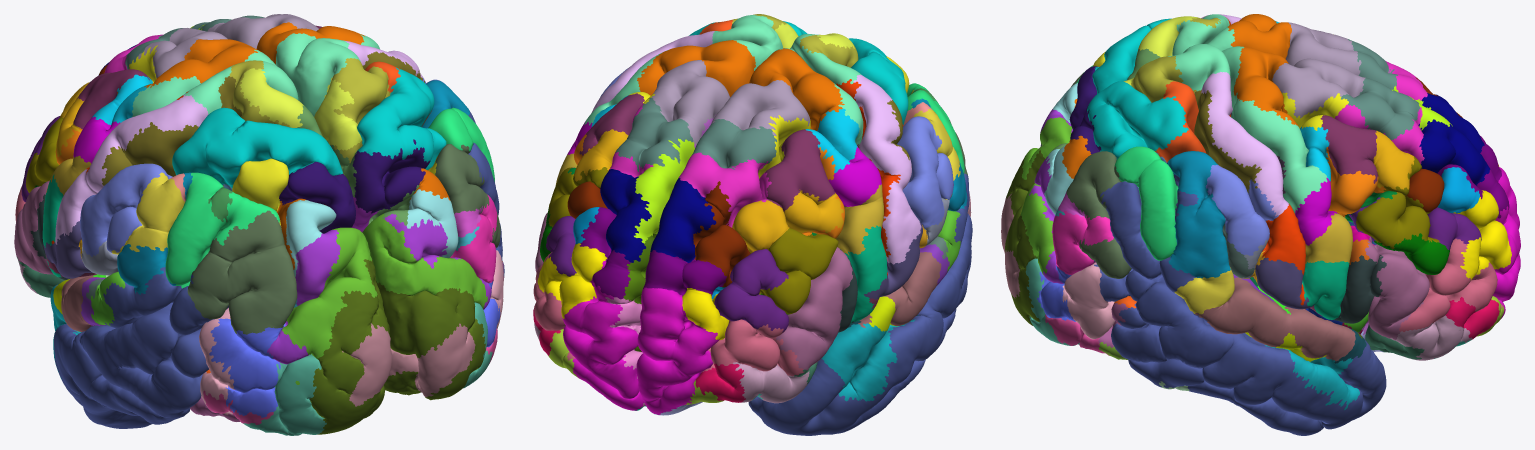
The model's file is cortex-julich.glb.
3 views of the same model, side by side, from view 1: azimuth 30°, elevation 25°; view 2: azimuth 150°, elevation 25°; view 3: azimuth 270°, elevation 25° (orthographic). The views are drawn at different scales.
Parts seen in each view (by area): view 1: julich:left:136, julich:left:34, julich:left:58, julich:right:7, julich:left:7, julich:left:36, julich:right:58, julich:right:46, julich:left:46, julich:left:43, julich:left:49, julich:left:35 (+54 smaller); view 2: julich:left:136, julich:left:68, julich:right:68, julich:left:49, julich:left:1, julich:left:83, julich:left:35, julich:left:105, julich:left:114, julich:right:87, julich:left:144, julich:right:86 (+48 smaller); view 3: julich:right:136, julich:right:48, julich:right:15, julich:right:38, julich:right:58, julich:right:36, julich:right:49, julich:right:1, julich:right:35, julich:right:140, julich:right:34, julich:right:87 (+56 smaller).
Part boxes in pixels (<box>): julich:left:136: <box>53,267,228,428</box>; julich:left:34: <box>187,210,297,334</box>; julich:left:58: <box>172,107,342,188</box>; julich:right:7: <box>376,281,485,400</box>; julich:left:7: <box>309,259,390,434</box>; julich:left:36: <box>165,172,279,288</box>; julich:right:58: <box>356,67,446,169</box>; julich:right:46: <box>362,213,487,308</box>; julich:left:46: <box>282,227,377,384</box>; julich:left:43: <box>209,318,292,417</box>; julich:left:49: <box>55,94,208,244</box>; julich:left:35: <box>80,163,172,256</box>; julich:left:136: <box>748,162,972,435</box>; julich:left:68: <box>636,287,719,414</box>; julich:right:68: <box>562,261,644,410</box>; julich:left:49: <box>853,75,921,264</box>; julich:left:1: <box>776,247,852,370</box>; julich:left:83: <box>821,315,918,401</box>; julich:left:35: <box>897,116,953,228</box>; julich:left:105: <box>732,189,843,253</box>; julich:left:114: <box>714,249,788,332</box>; julich:right:87: <box>652,60,730,144</box>; julich:left:144: <box>750,228,838,314</box>; julich:right:86: <box>637,40,755,96</box>; julich:right:136: <box>1094,174,1386,435</box>; julich:right:48: <box>1168,44,1327,213</box>; julich:right:15: <box>1195,277,1355,361</box>; julich:right:38: <box>1167,151,1230,278</box>; julich:right:58: <box>1087,81,1188,159</box>; julich:right:36: <box>1114,146,1178,260</box>; julich:right:49: <box>1201,72,1288,216</box>; julich:right:1: <box>1365,236,1429,339</box>; julich:right:35: <box>1205,165,1279,255</box>; julich:right:140: <box>1399,238,1502,331</box>; julich:right:34: <box>1066,151,1131,278</box>; julich:right:87: <box>1272,58,1365,118</box>.
Bounding box in the file's own units: 0.1294 × 0.1236 × 0.1629.
